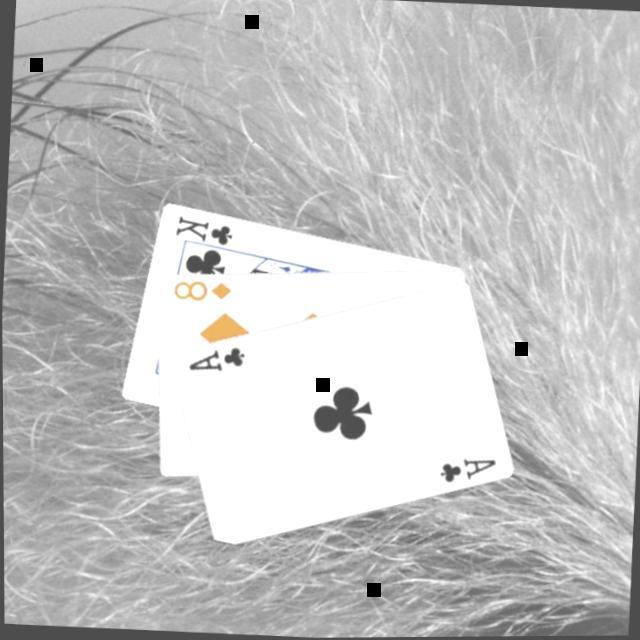8D: (170, 276, 237, 306)
AC: (186, 340, 250, 375), (436, 453, 500, 488)
KC: (174, 212, 242, 255)
